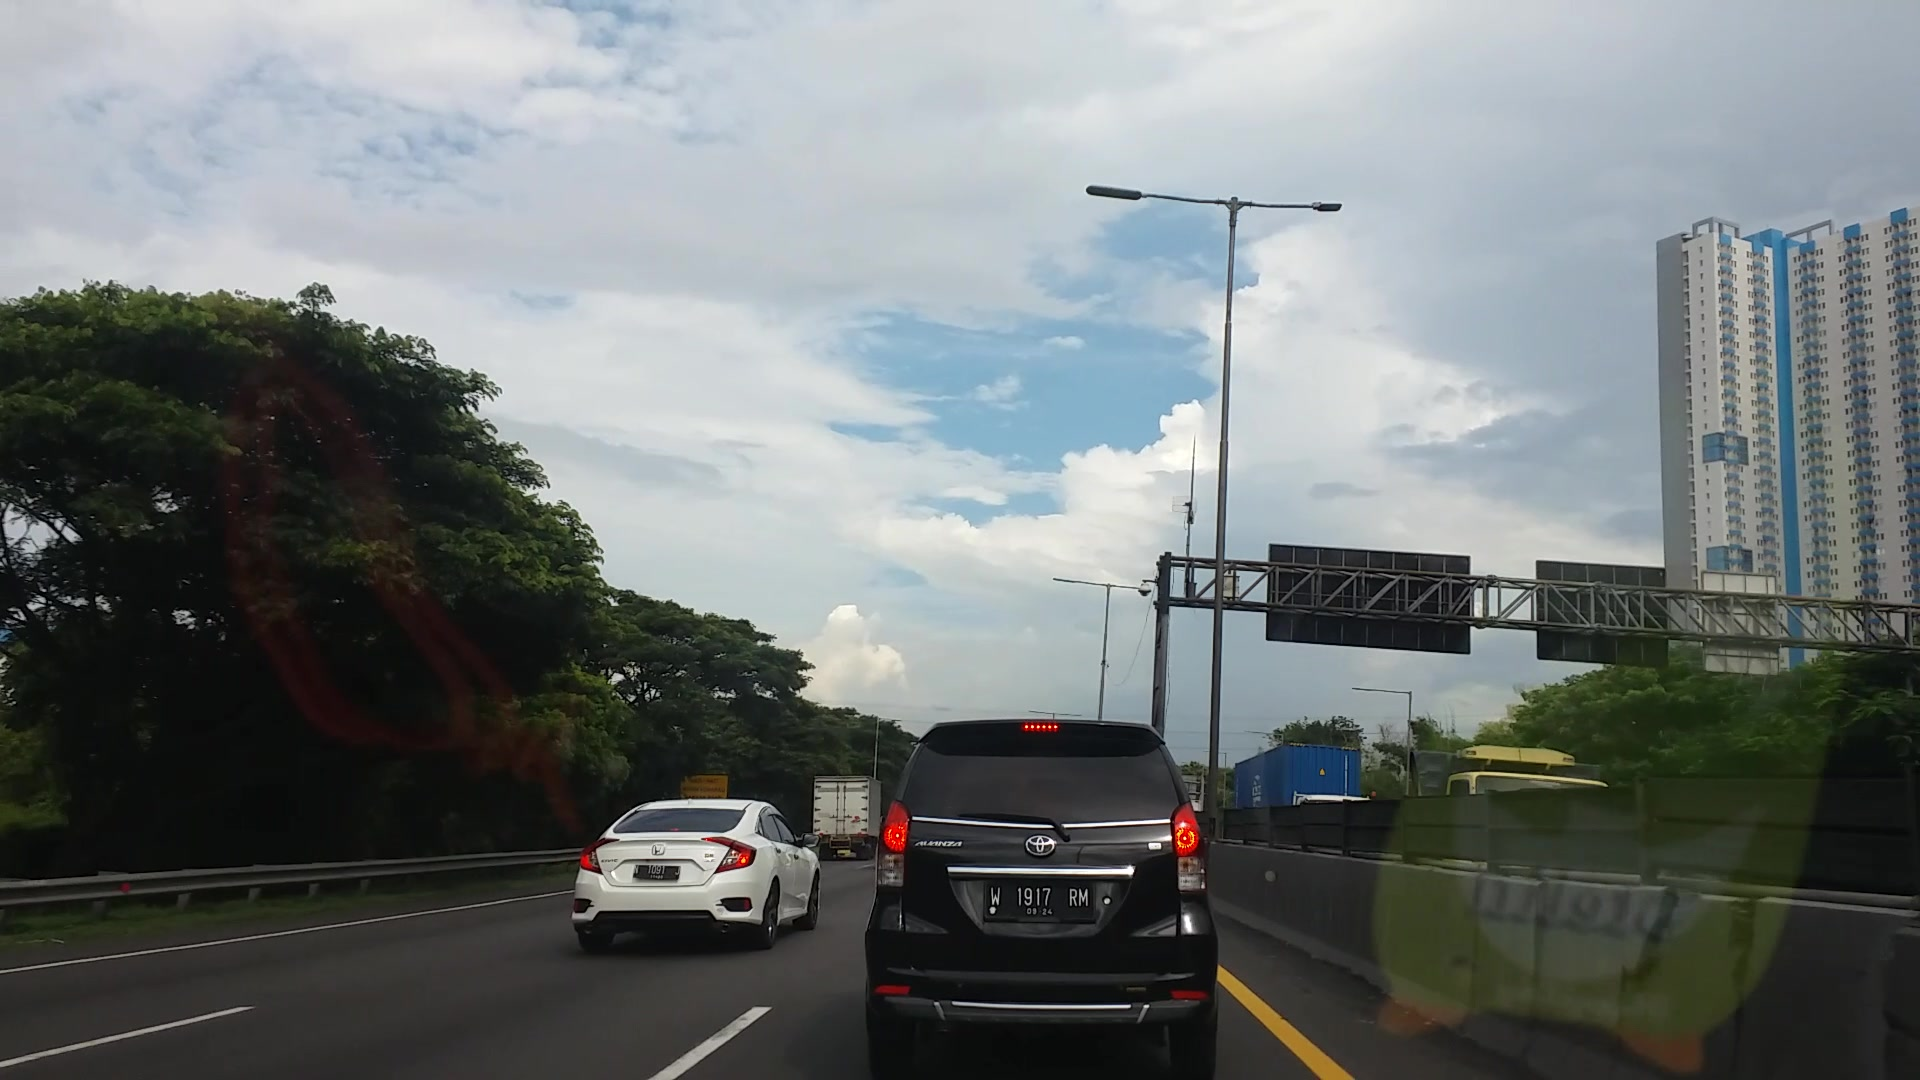plate_positive: (985, 881, 1093, 919)
